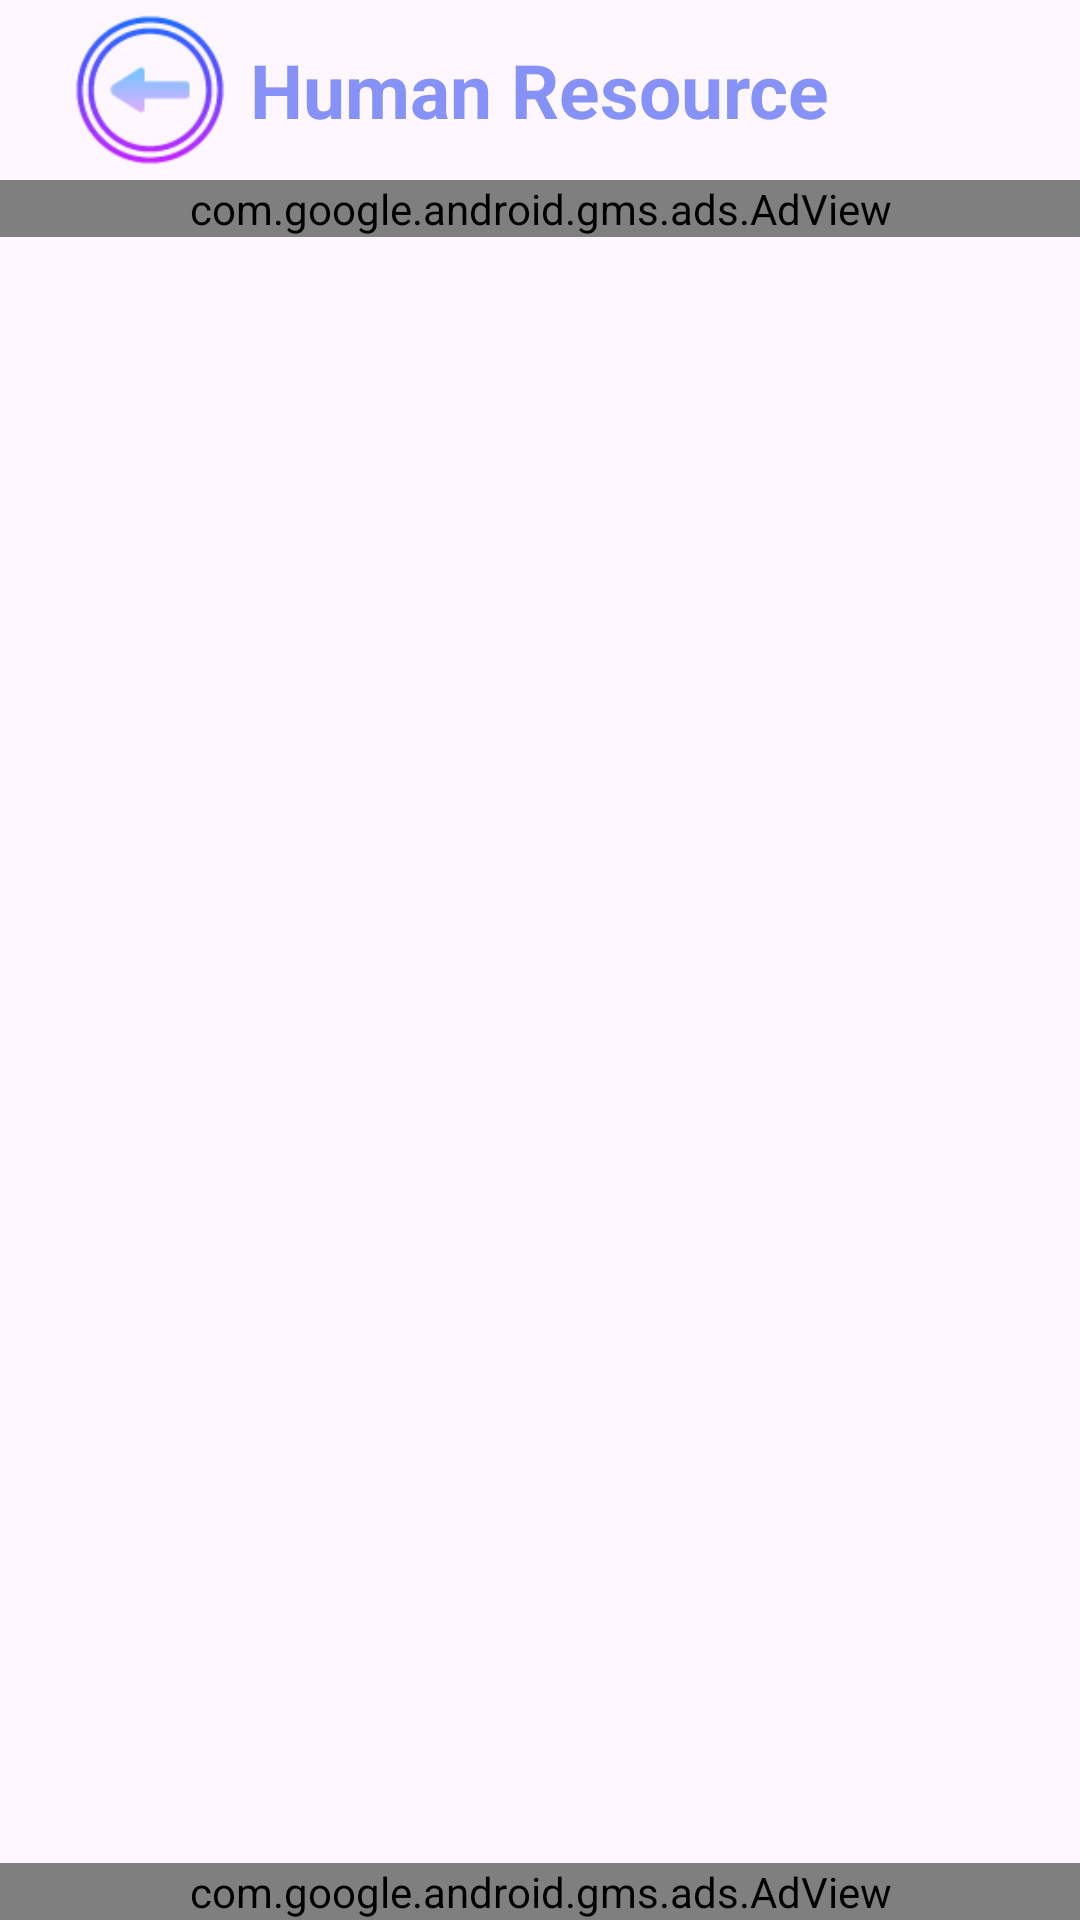

Icons on this 1080 x 1920 Android screen, each with its box as rect(x1, y1, x2, y2):
back: rect(76, 16, 298, 164)
